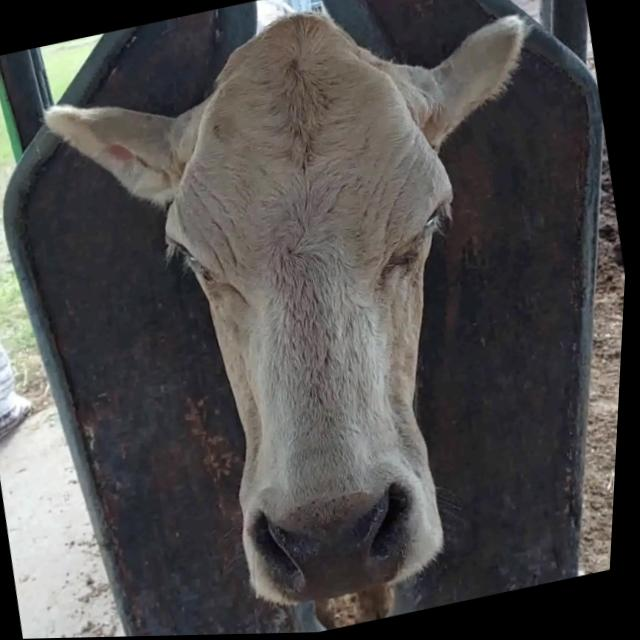cowFace: (116, 0, 535, 621)
